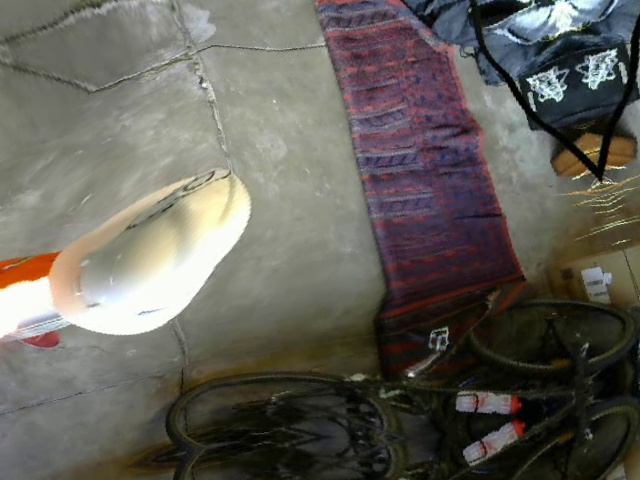eight: (118, 161, 232, 244)
